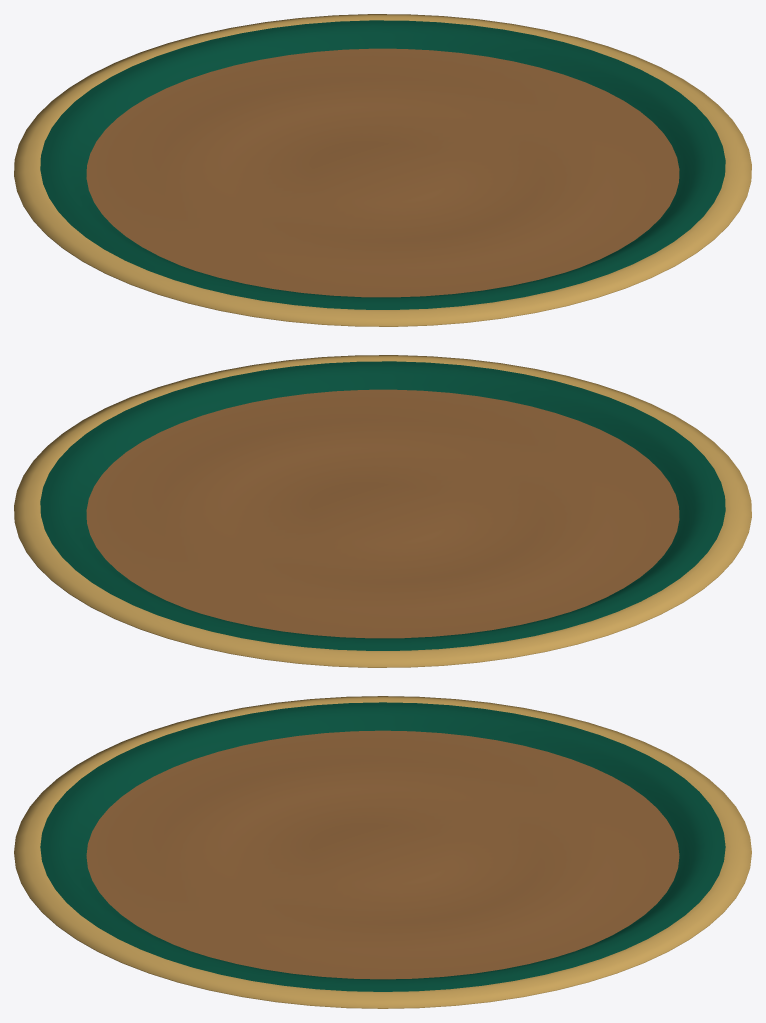
Rendered from sunken_velvet_dice_arena.glb.
3 views of the same model, one above another, from view 1: azimuth 30°, elevation 25°; view 2: azimuth 150°, elevation 25°; view 3: azimuth 270°, elevation 25° (orthographic).
Visible parts, largest first — view 1: Sunken_Velvet_Dice_Arena; view 2: Sunken_Velvet_Dice_Arena; view 3: Sunken_Velvet_Dice_Arena.
Boxes of the visible parts, left/top/right/bottom form: Sunken_Velvet_Dice_Arena: left=14, top=14, right=751, bottom=326; Sunken_Velvet_Dice_Arena: left=14, top=355, right=751, bottom=667; Sunken_Velvet_Dice_Arena: left=14, top=696, right=751, bottom=1008.
Size of the model in its own units: 3.36 by 0.058 by 3.36.
